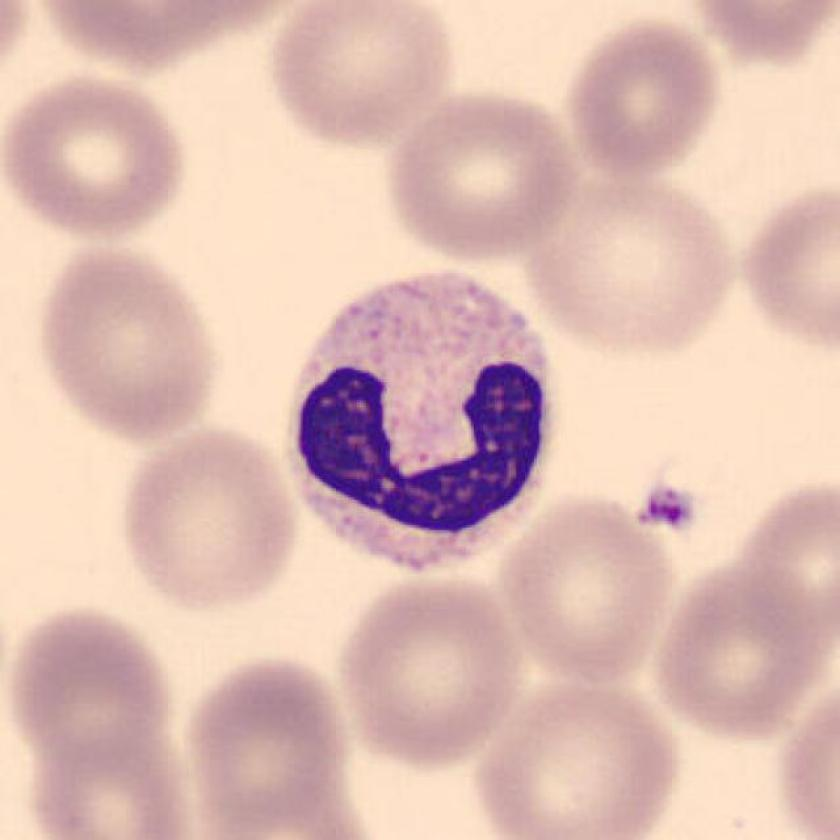neutrophil: (290, 274, 554, 573)
